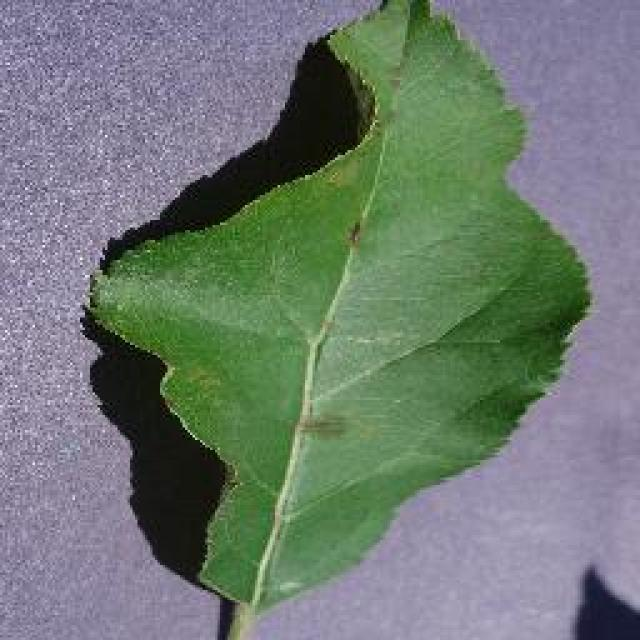apple scab disease: (83, 0, 595, 638)
